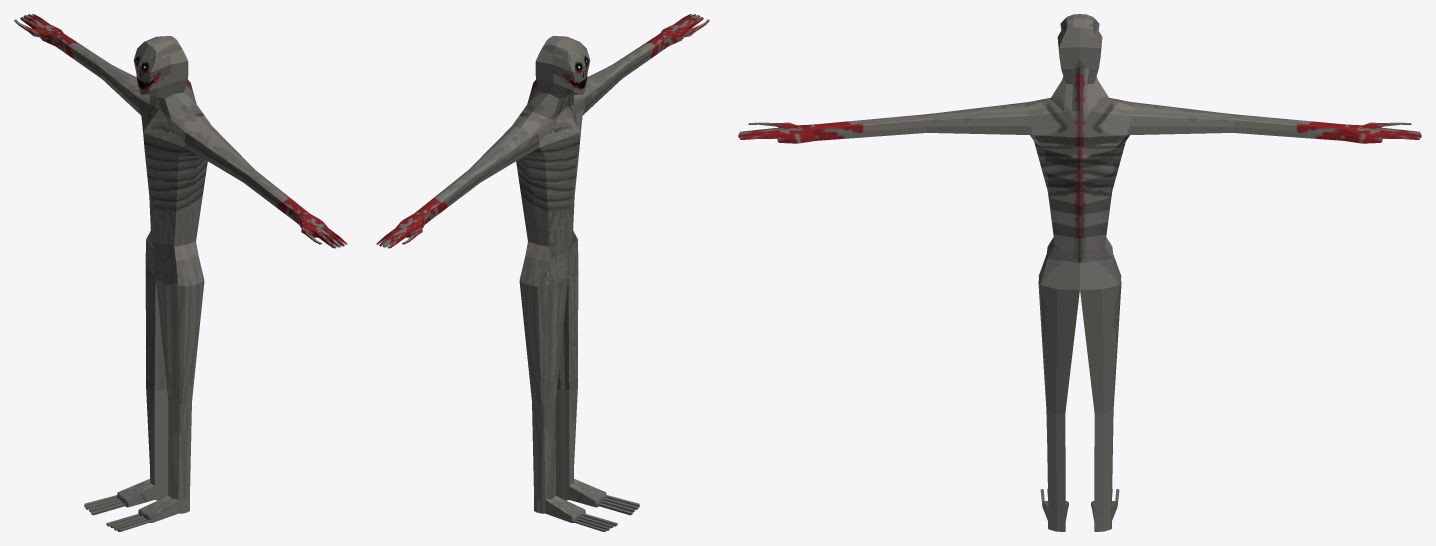
The model's file is monster.fbx.
The picture shows the model from 3 angles, left to right: view 1: azimuth 30°, elevation 25°; view 2: azimuth 150°, elevation 25°; view 3: azimuth 270°, elevation 25°; orthographic projection. The views are drawn at different scales.
Parts seen in each view (by area): view 1: Cube; view 2: Cube; view 3: Cube.
Boxes of the visible parts, x1,y1,x2,y2 form: Cube: (14,14,347,531); Cube: (376,14,709,531); Cube: (738,14,1421,531).
Size of the model in its own units: 276 by 1170 by 1428.
1 material, 1 textured.
